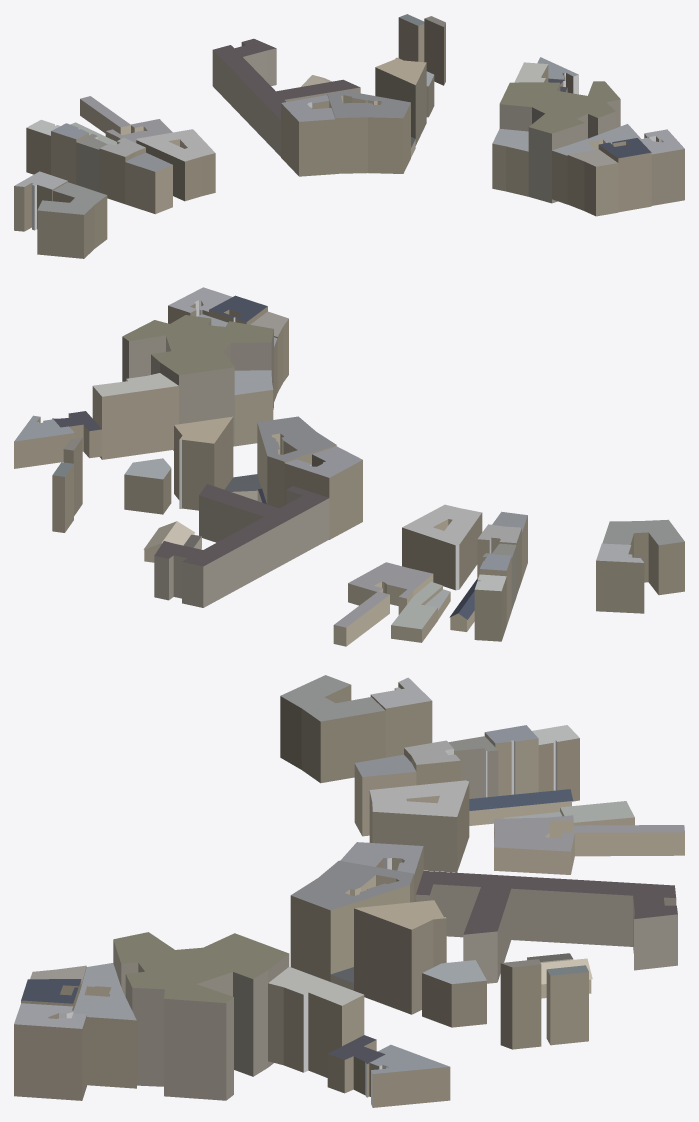
3 renders of one model, top to bottom at view 1: azimuth 30°, elevation 25°; view 2: azimuth 150°, elevation 25°; view 3: azimuth 270°, elevation 25°, orthographic. The views are drawn at different scales.
Visible parts, largest first — view 1: tuile; view 2: tuile; view 3: tuile.
Boxes of the visible parts, x1=… form: tuile: x1=14, y1=14, x2=684, y2=258; tuile: x1=14, y1=287, x2=684, y2=646; tuile: x1=14, y1=675, x2=684, y2=1107.
Size of the model in its own units: 268 by 32.02 by 199.
